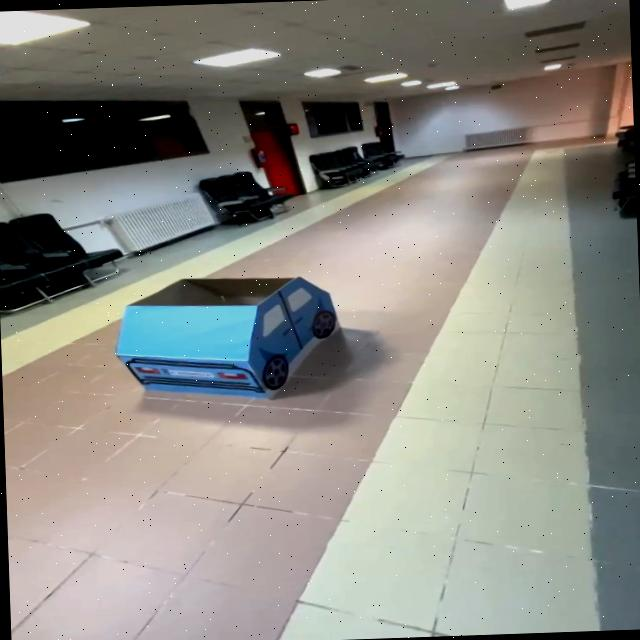blue_car: (90, 256, 381, 443)
